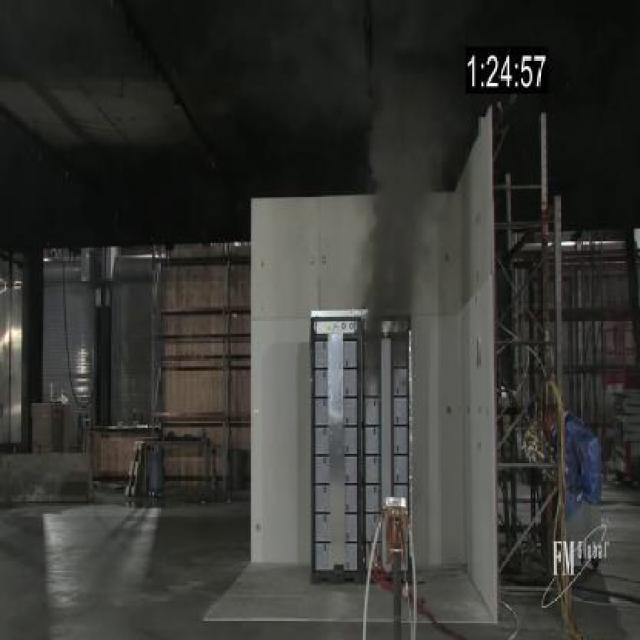fire: (362, 82, 464, 310)
